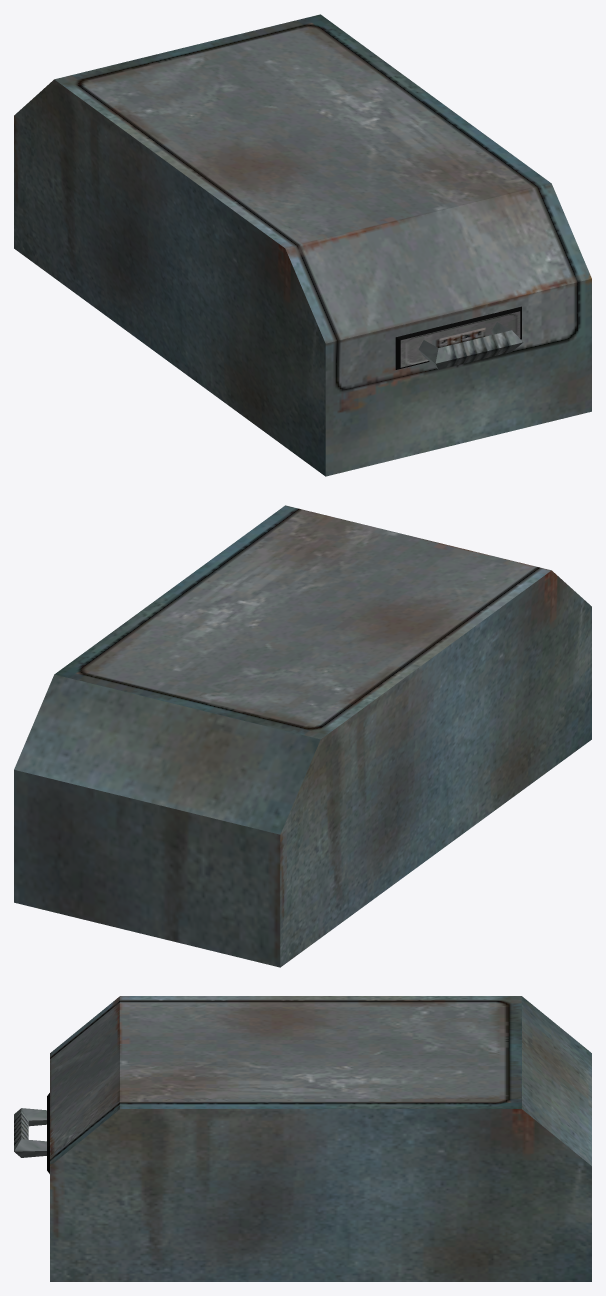
Rendered from con_gen_crate_m_s1_l1.fbx.
The picture shows the model from 3 angles, top to bottom: view 1: azimuth 30°, elevation 25°; view 2: azimuth 150°, elevation 25°; view 3: azimuth 270°, elevation 25°; orthographic projection. The views are drawn at different scales.
Parts seen in each view (by area): view 1: mesh_node; view 2: mesh_node; view 3: mesh_node.
Part boxes in pixels (x1,y1,x2,y2): mesh_node: (14,14,591,476); mesh_node: (14,505,591,967); mesh_node: (14,996,591,1281).
Size of the model in its own units: 0.3473 by 0.2475 by 0.7505.
Materials: 1 (1 with a texture image).
